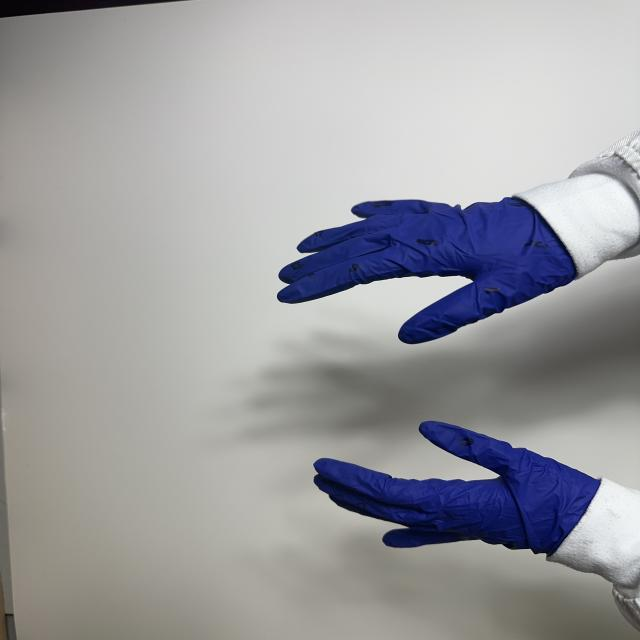gloves_contaminated: (278, 198, 576, 344), (314, 421, 600, 553)
